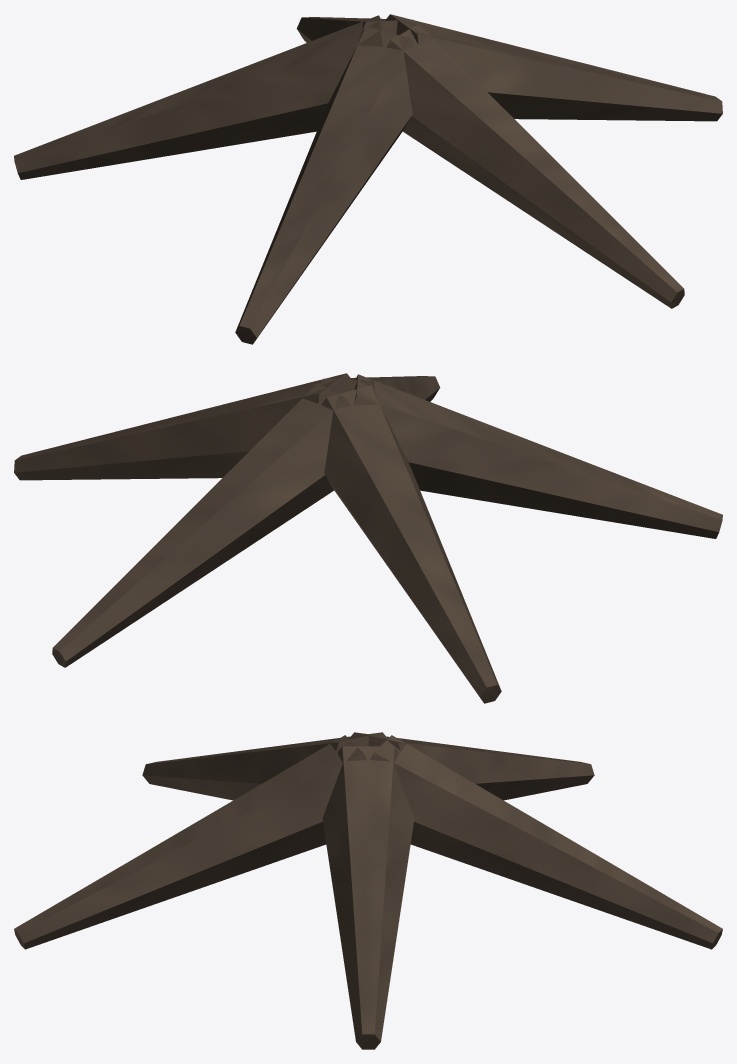
File: root_cluster_01.fbx
3 views of the same model, one above another, from view 1: azimuth 30°, elevation 25°; view 2: azimuth 150°, elevation 25°; view 3: azimuth 270°, elevation 25° (orthographic). The views are drawn at different scales.
Parts seen in each view (by area): view 1: root_cluster_01; view 2: root_cluster_01; view 3: root_cluster_01.
Boxes of the visible parts, <box> form: root_cluster_01: <box>14,14,722,344</box>; root_cluster_01: <box>14,373,722,703</box>; root_cluster_01: <box>14,732,722,1049</box>.
Size of the model in its own units: 182 by 50 by 200.
1 material, 1 textured.
